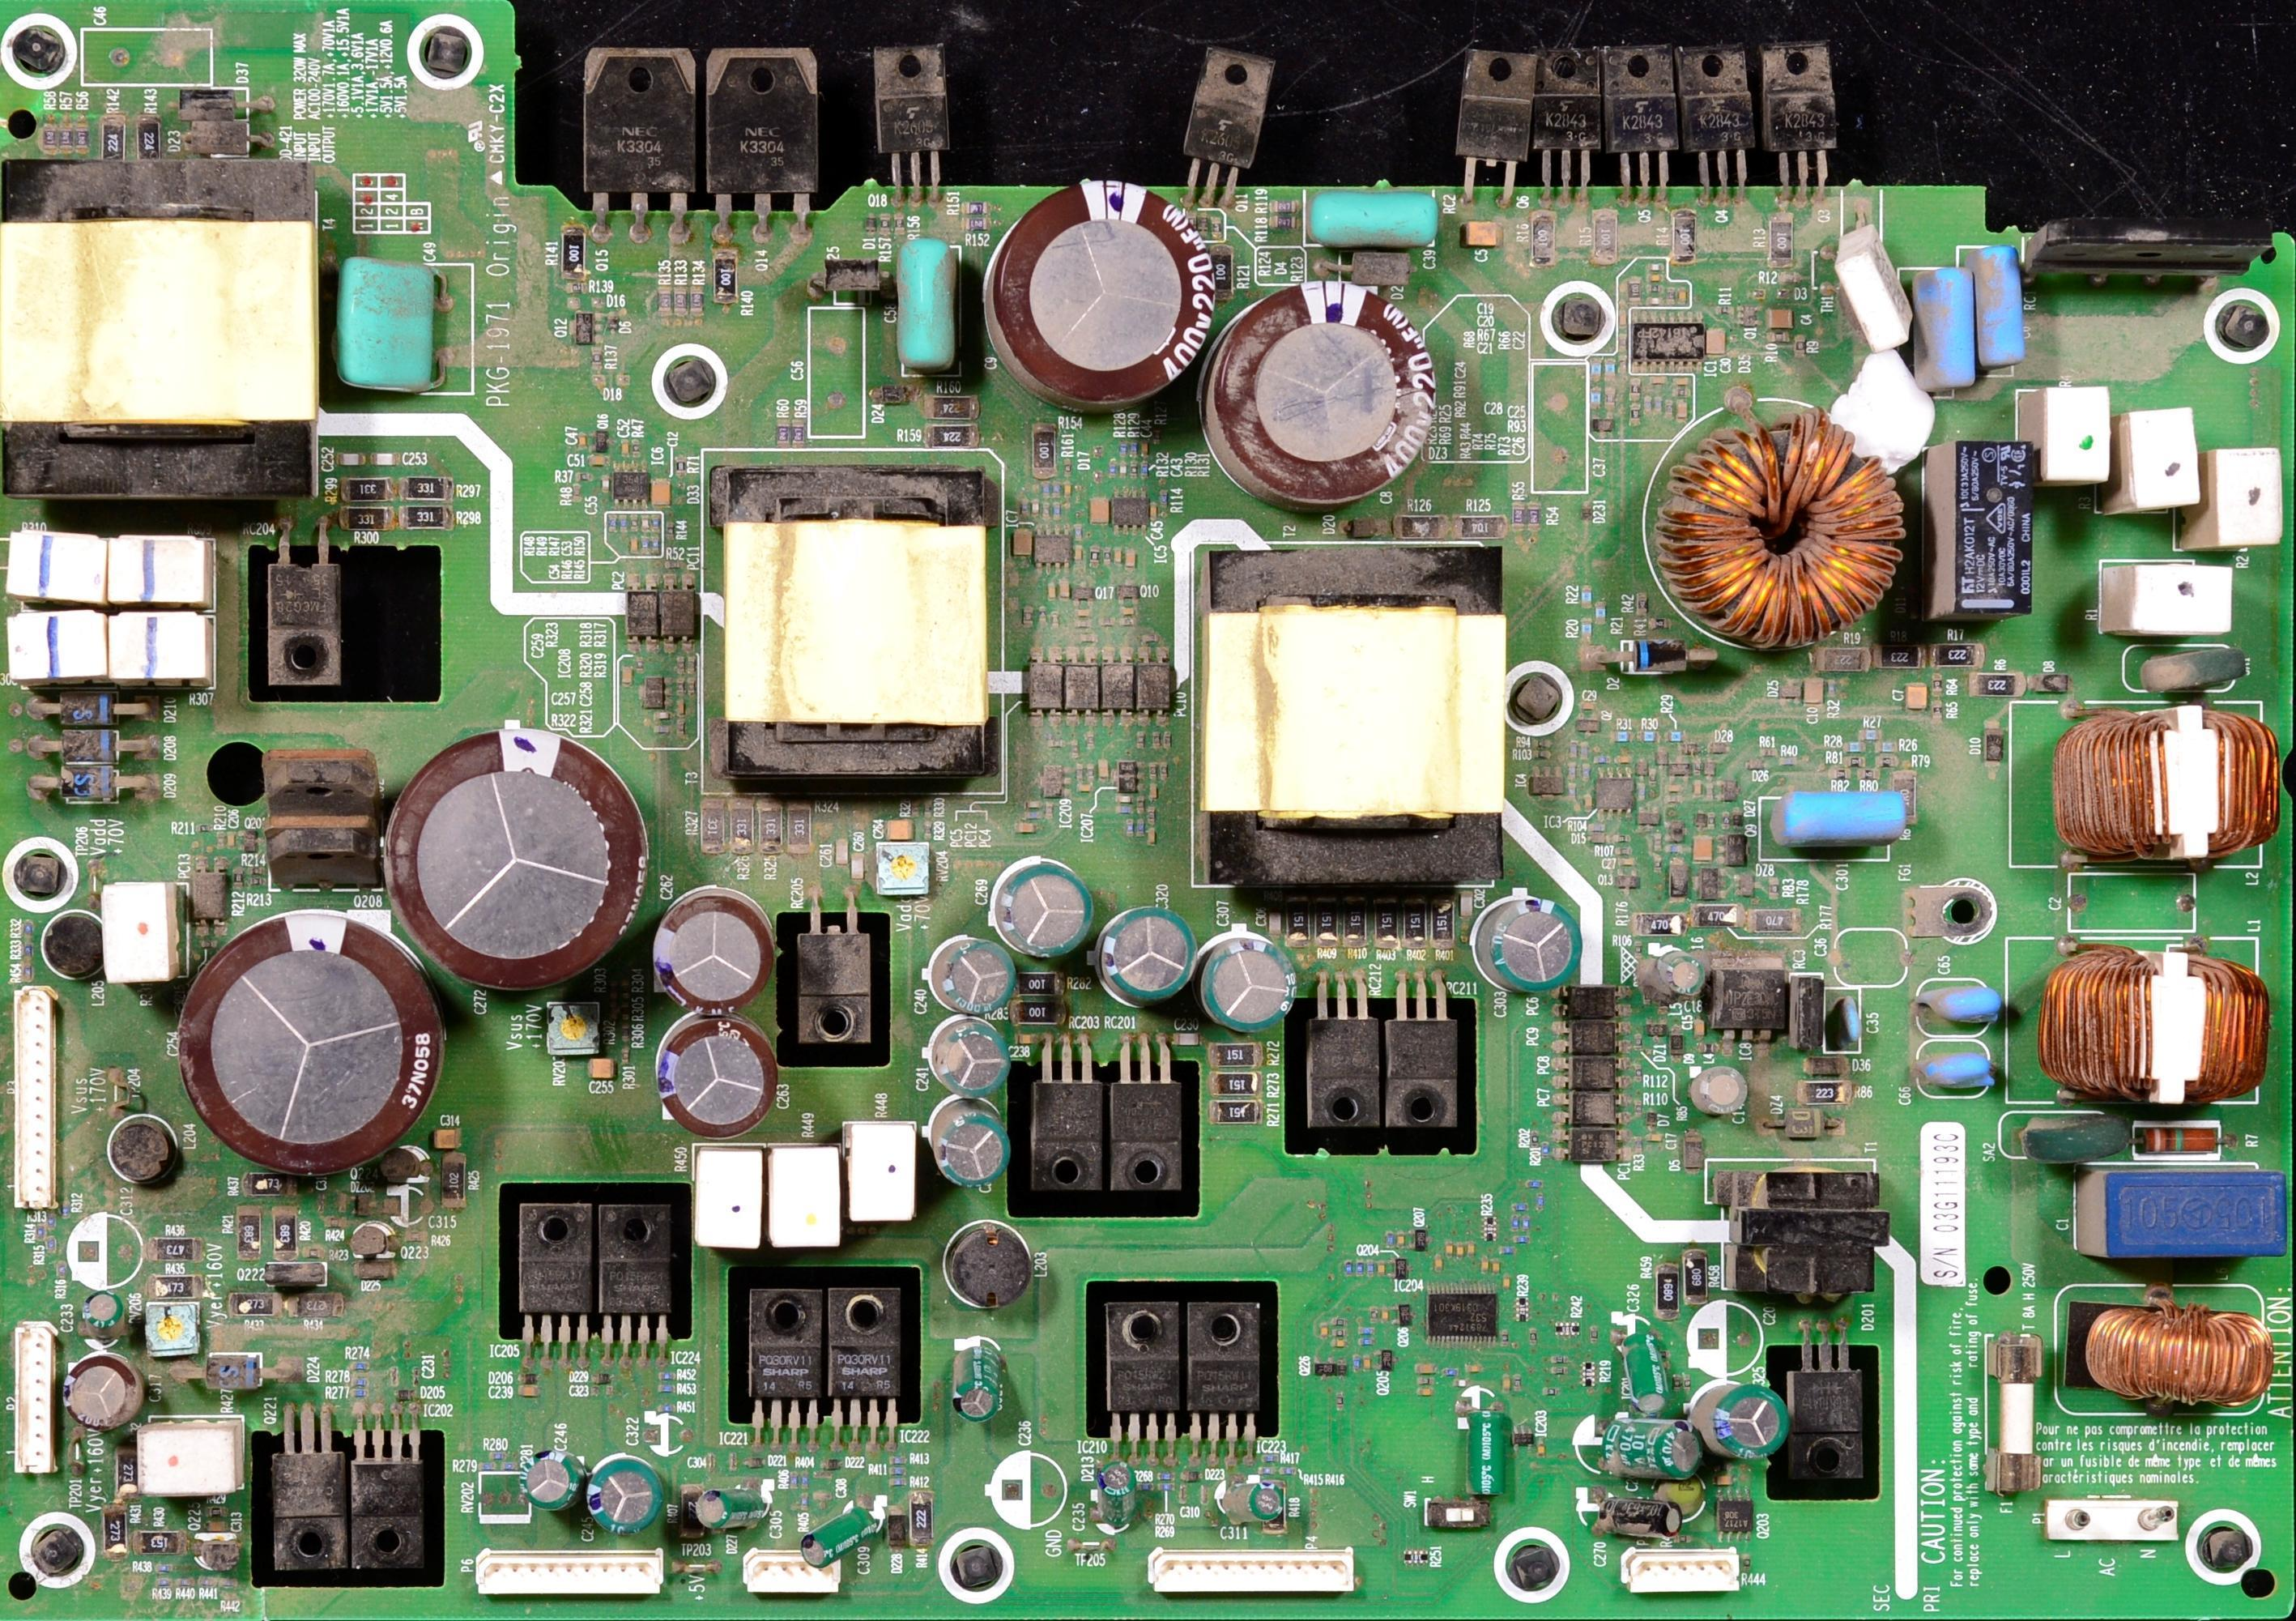Capacitor: (179, 924, 432, 1173), (394, 727, 641, 975), (982, 185, 1214, 403), (1220, 272, 1417, 488), (1929, 432, 2043, 627), (2072, 1167, 2289, 1261), (334, 254, 469, 387), (653, 1008, 779, 1133), (653, 894, 768, 1005), (1198, 932, 1297, 1031), (1480, 892, 1576, 993), (987, 861, 1088, 958), (1909, 264, 1985, 390), (892, 234, 959, 374), (1959, 242, 2030, 373), (1761, 793, 1902, 853), (1309, 187, 1442, 249), (1101, 911, 1191, 996), (926, 1013, 1007, 1101), (58, 1350, 138, 1433), (1696, 1386, 1791, 1457), (584, 1451, 662, 1536), (933, 941, 1017, 1017), (936, 1101, 1007, 1190), (1608, 1413, 1697, 1480), (1629, 309, 1709, 376), (947, 1332, 1003, 1425), (1463, 1410, 1519, 1502), (799, 1510, 880, 1572), (1619, 1332, 1673, 1420), (1608, 1495, 1687, 1546), (518, 1449, 582, 1507), (1921, 985, 1994, 1036), (1917, 1050, 1998, 1094), (702, 1486, 776, 1535), (1216, 1478, 1283, 1528), (1095, 1461, 1139, 1529), (1653, 950, 1707, 1003), (1693, 1068, 1750, 1118), (1828, 992, 1862, 1057), (83, 1289, 130, 1339), (1656, 1472, 1701, 1511), (431, 1119, 468, 1154), (1086, 493, 1116, 531), (582, 1054, 620, 1082), (649, 468, 671, 512), (1009, 527, 1035, 557), (1689, 835, 1715, 864), (1802, 676, 1825, 706), (615, 663, 636, 693), (1641, 1104, 1662, 1132), (1904, 684, 1927, 710), (1645, 1129, 1669, 1148), (1579, 698, 1596, 715), (517, 1385, 542, 1398)
IC: (1183, 1299, 1271, 1474), (594, 1190, 679, 1366), (1105, 1293, 1191, 1461), (512, 1197, 594, 1338), (827, 1281, 898, 1440), (742, 1279, 820, 1426), (1708, 960, 1784, 1042), (1422, 1282, 1502, 1343), (608, 460, 654, 512), (1030, 522, 1074, 576), (1589, 768, 1635, 820), (1115, 489, 1154, 535), (1527, 762, 1570, 804), (1038, 761, 1064, 804), (1114, 760, 1143, 800)
Resistor: (143, 1230, 212, 1265), (921, 390, 982, 429), (556, 222, 591, 286), (904, 1487, 937, 1553), (1310, 896, 1346, 958), (1026, 420, 1061, 480), (722, 792, 755, 859), (918, 422, 988, 452), (1396, 511, 1450, 547), (432, 1154, 470, 1206), (110, 1443, 142, 1504), (1527, 208, 1559, 270), (1342, 898, 1372, 963), (1009, 967, 1067, 1000), (1007, 995, 1065, 1027), (1208, 1096, 1263, 1131), (2137, 1128, 2216, 1152), (785, 797, 816, 856), (1208, 1069, 1271, 1098), (693, 795, 723, 856), (1811, 651, 1876, 678), (224, 1286, 278, 1320), (756, 793, 782, 861), (1765, 214, 1795, 271), (1923, 642, 1985, 670), (1370, 898, 1399, 956), (710, 248, 739, 305), (147, 1270, 202, 1301), (1206, 1040, 1263, 1071), (1682, 1248, 1710, 1309), (1455, 513, 1507, 544), (1281, 900, 1314, 949), (343, 505, 398, 535), (1655, 1263, 1680, 1325), (100, 1505, 131, 1556), (1431, 894, 1457, 953), (1463, 217, 1505, 254), (130, 1528, 185, 1556), (1591, 211, 1620, 267), (1876, 643, 1932, 672), (1402, 900, 1429, 956), (232, 1208, 261, 1260), (343, 476, 397, 505), (1746, 908, 1797, 936), (1970, 673, 2023, 701), (398, 476, 448, 505), (400, 503, 449, 531), (100, 113, 129, 158), (276, 1208, 300, 1256), (1668, 211, 1693, 257), (1803, 1078, 1847, 1104), (1694, 904, 1740, 926), (1638, 914, 1686, 935), (141, 117, 160, 164), (40, 116, 61, 155), (1762, 307, 1795, 331), (1523, 497, 1545, 534), (58, 114, 75, 156), (1504, 501, 1524, 534), (791, 414, 809, 450), (688, 285, 705, 318), (657, 286, 673, 316), (72, 120, 87, 151), (673, 286, 690, 318), (777, 416, 794, 448), (1579, 616, 1595, 644), (1876, 753, 1902, 768), (1872, 739, 1902, 752), (1828, 768, 1855, 783), (1531, 736, 1553, 752), (1855, 727, 1881, 741), (1857, 766, 1883, 780), (1768, 877, 1783, 902), (1580, 583, 1592, 608), (1595, 599, 1608, 625), (1845, 739, 1863, 754), (1609, 833, 1632, 844), (1531, 748, 1551, 759), (1845, 756, 1866, 767), (1612, 845, 1632, 855), (233, 865, 244, 884)
Transistor: (697, 51, 818, 241), (578, 48, 698, 231), (1765, 43, 1841, 221), (1451, 48, 1534, 208), (1676, 49, 1749, 219), (1534, 49, 1606, 223), (868, 60, 951, 209), (1604, 47, 1676, 205), (1187, 87, 1263, 216), (1708, 1486, 1761, 1543), (564, 313, 601, 350), (1697, 862, 1727, 903), (1111, 580, 1144, 613), (1719, 831, 1746, 865), (1066, 578, 1094, 608), (1632, 805, 1667, 829), (1611, 868, 1643, 889)
